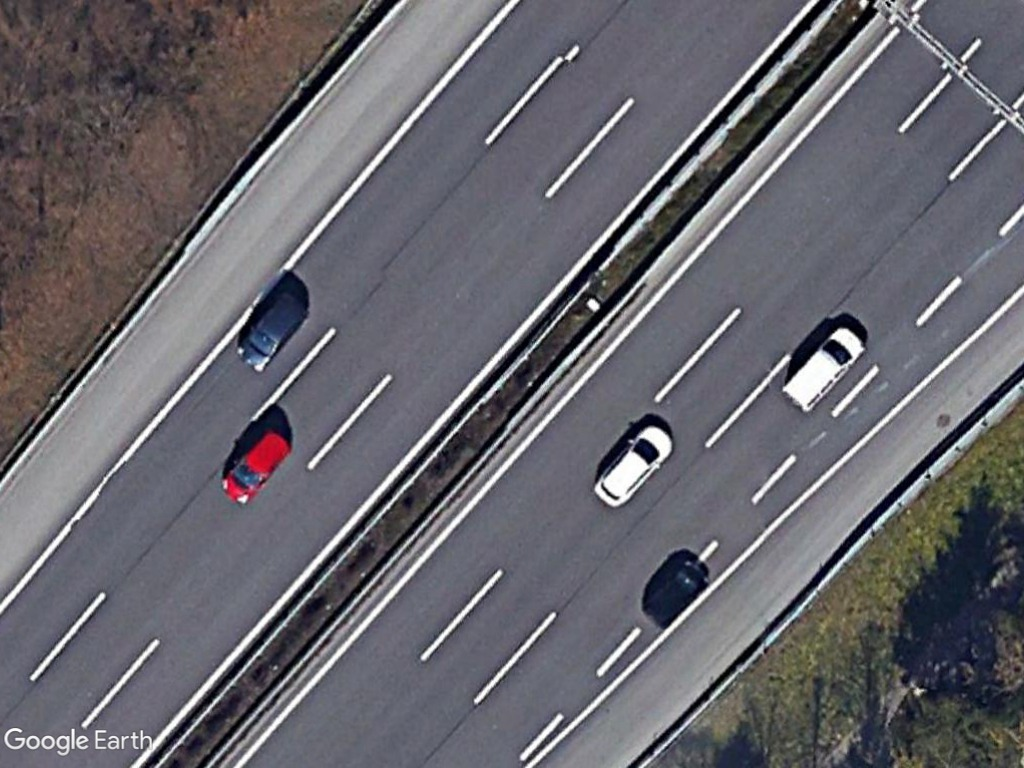car: (593, 423, 680, 507), (235, 292, 310, 373), (222, 428, 291, 506)
van: (780, 324, 865, 414)
